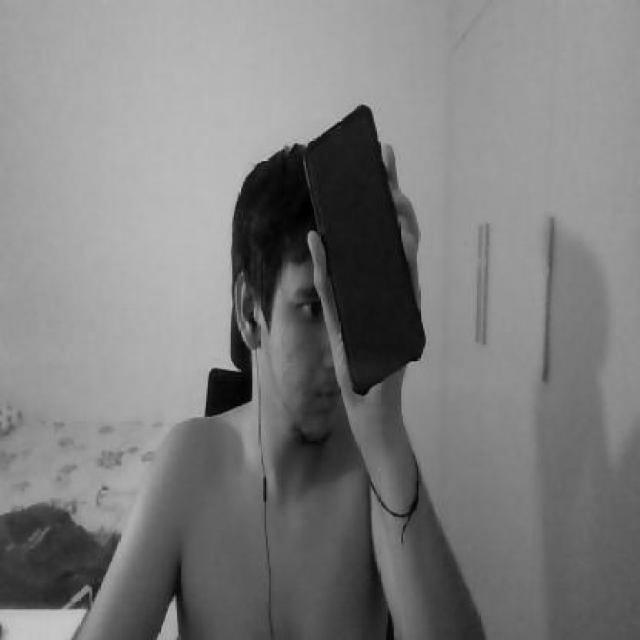fake: (303, 109, 425, 403)
